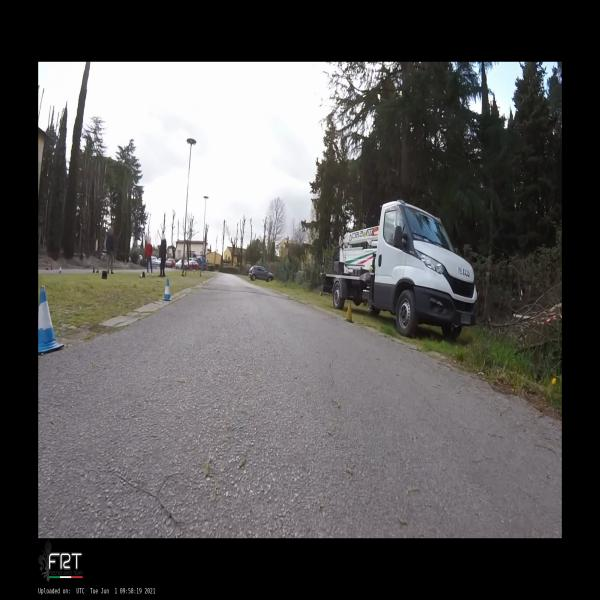blue_cone: (39, 285, 64, 353), (162, 279, 172, 301), (58, 267, 62, 274)
large_orange_cone: (96, 265, 99, 272)
orange_cone: (139, 272, 145, 278)
unknown_cone: (343, 302, 354, 323), (102, 270, 107, 280), (92, 266, 95, 273), (50, 263, 52, 270)
